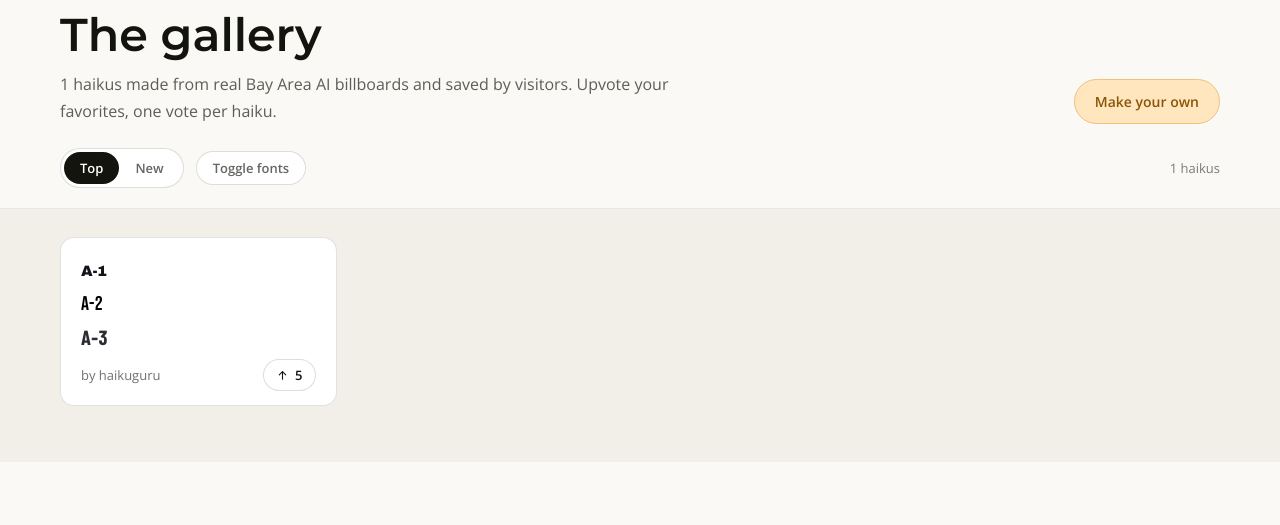
Test: GalleryPage › rolls back an upvote that fails
Expected: the text "a-1" is shown, top-left (81, 263), bottom-right (107, 279)
Step 1. Click the button named "upvote" → {"x": 289, "y": 375}, box top-left (263, 359), bottom-right (316, 391)
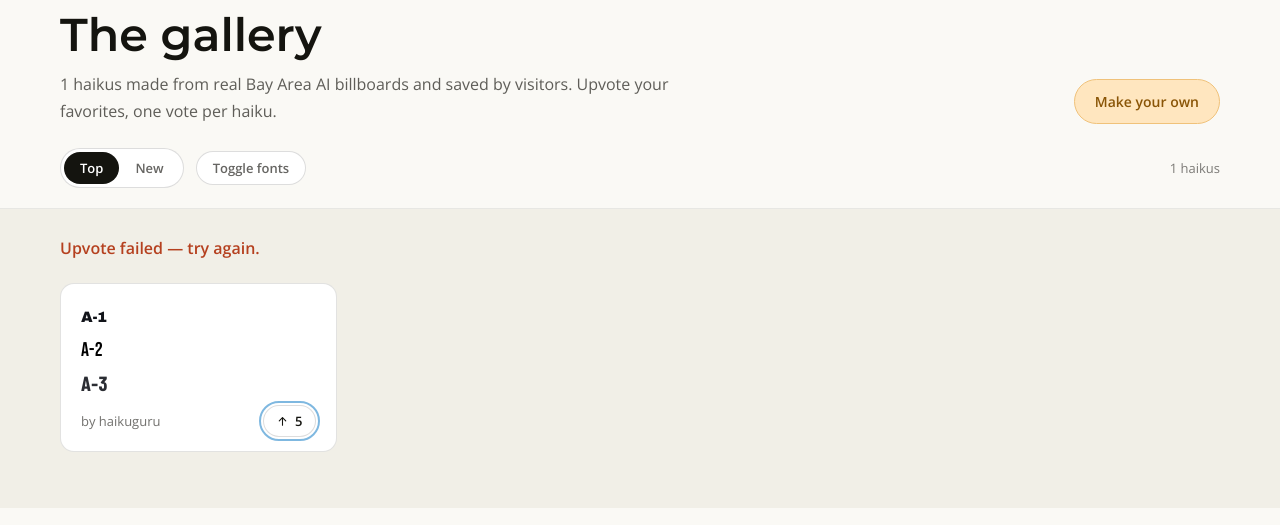
Expected: the button named "upvote" is enabled, top-left (263, 405), bottom-right (316, 437)
Now the text "Upvote failed — try again." is shown, box top-left (60, 237), bottom-right (260, 259)
